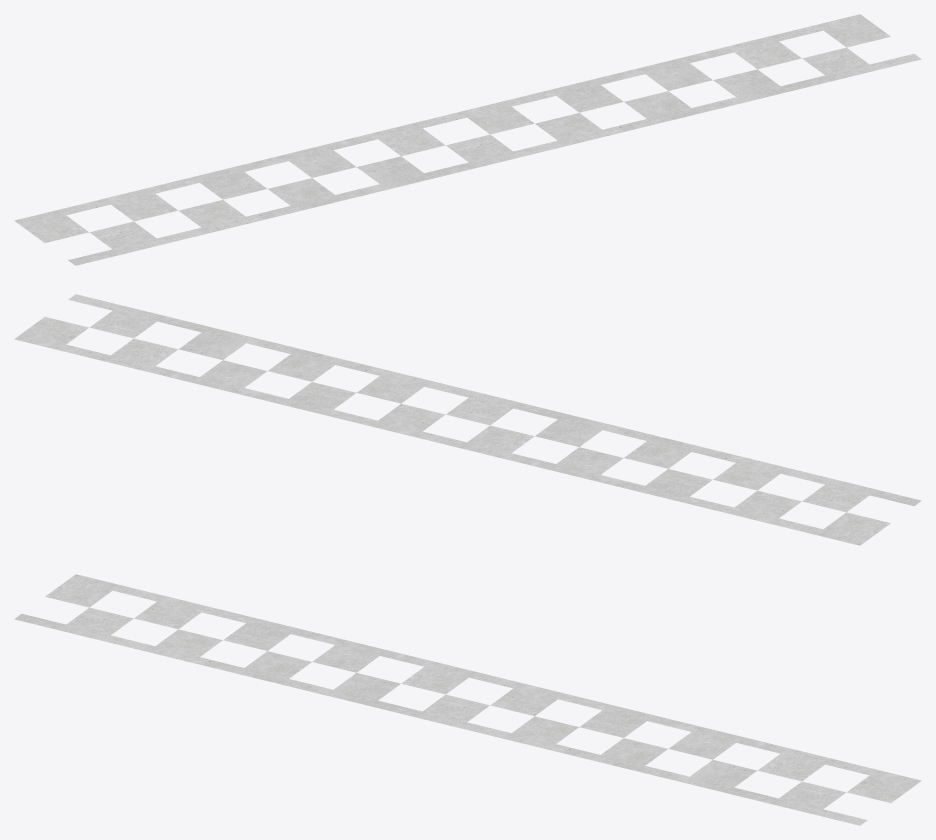
File: finishline.dae
The picture shows the model from 3 angles, top to bottom: view 1: azimuth 30°, elevation 25°; view 2: azimuth 150°, elevation 25°; view 3: azimuth 330°, elevation 25°; orthographic projection.
Parts seen in each view (by area): view 1: loop_track_finishline; view 2: loop_track_finishline; view 3: loop_track_finishline.
Part boxes in pixels (x1,y1,x2,y2): loop_track_finishline: [14, 14, 921, 265]; loop_track_finishline: [14, 294, 921, 545]; loop_track_finishline: [14, 574, 921, 825].
Bounding box in the file's own units: 1.46 × 0.1838 × 8.03e-09.
1 material, 1 textured.
